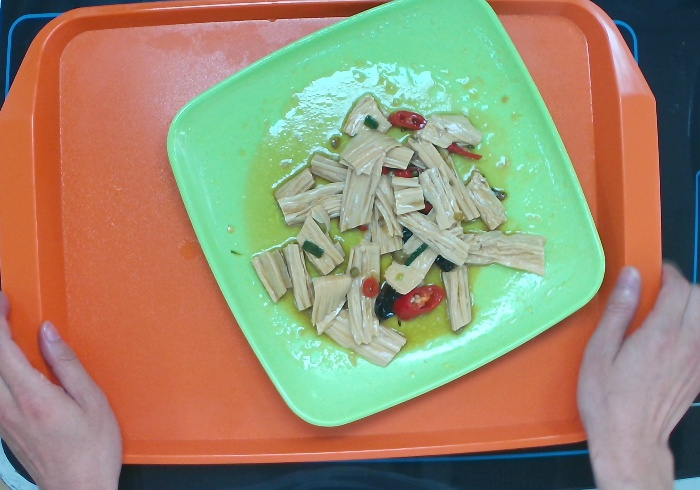ZNLD-Lv_Fang_Pan: (160, 1, 612, 435)
